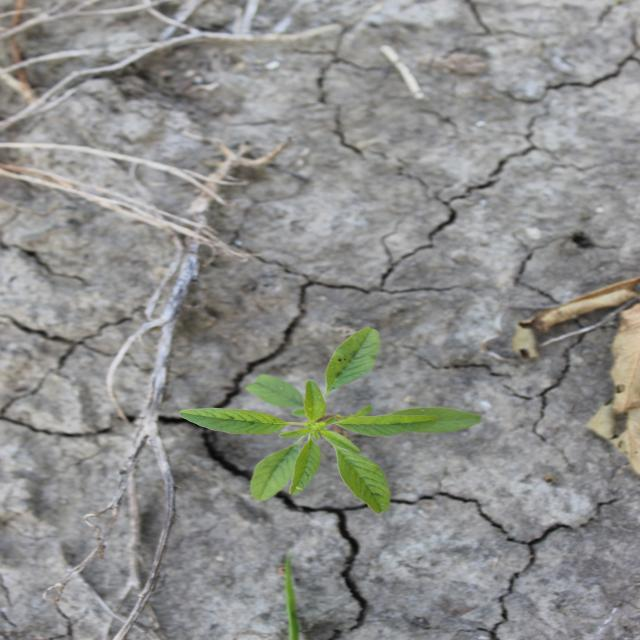Waterhemp: (177, 324, 485, 517)
